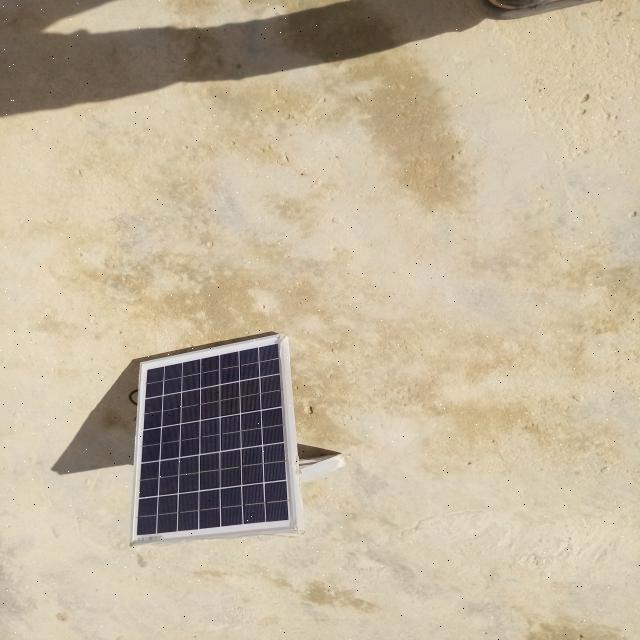Normal Solar Panel: (131, 335, 299, 546)
